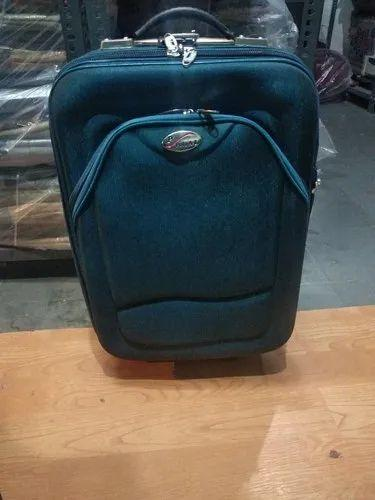suitcase: (45, 28, 327, 374)
